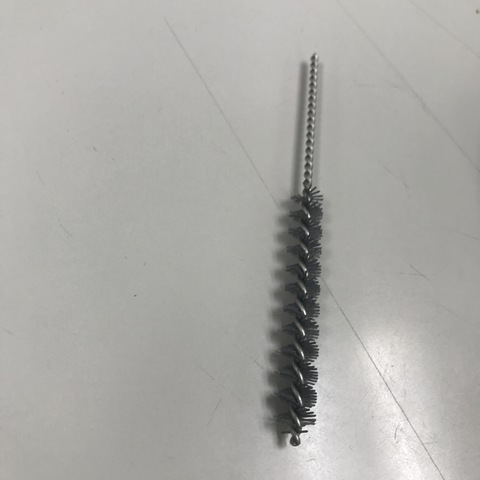Twist Brush-A: (267, 51, 328, 450)
